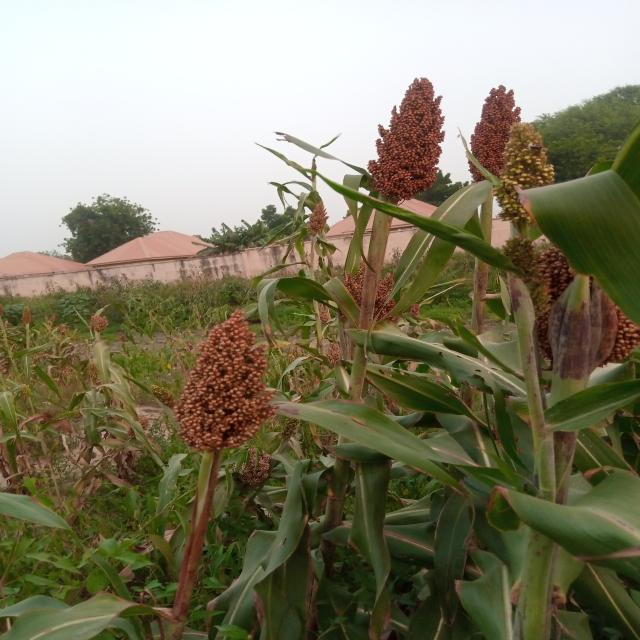RipeSorghum: (145, 315, 317, 475), (348, 75, 465, 222)
